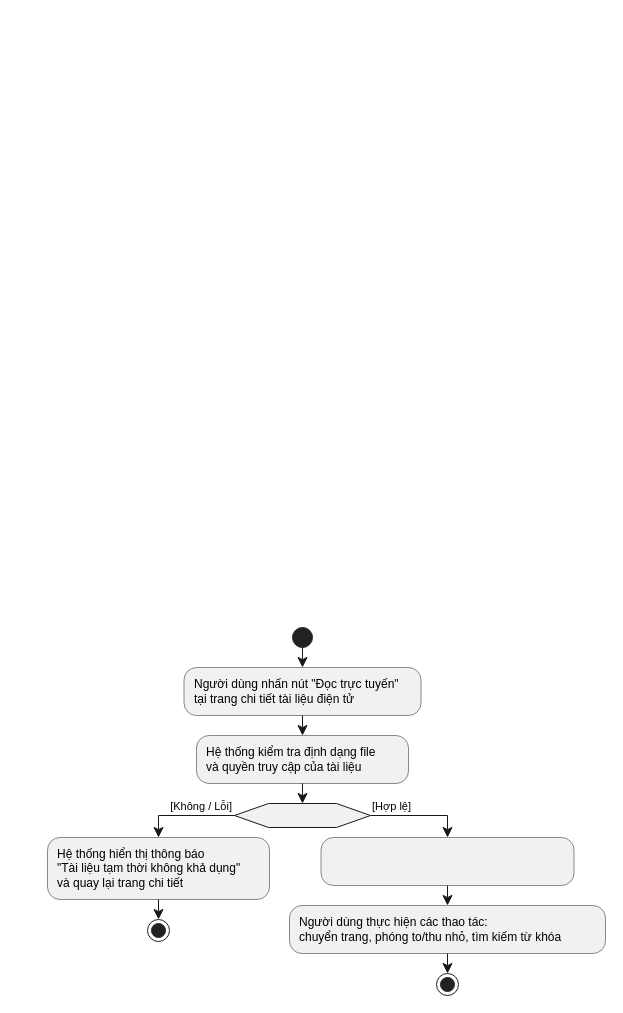
This 623x1013 diagram has some shape labels left out. Each missing label, with the centre of its shape:
"File hợp lệ và tồn tại?" belongs at point 302,815.
"Hệ thống mở trình xem tài liệu (Viewer) và tải nội dung trang đầu tiên" belongs at point 447,861.
